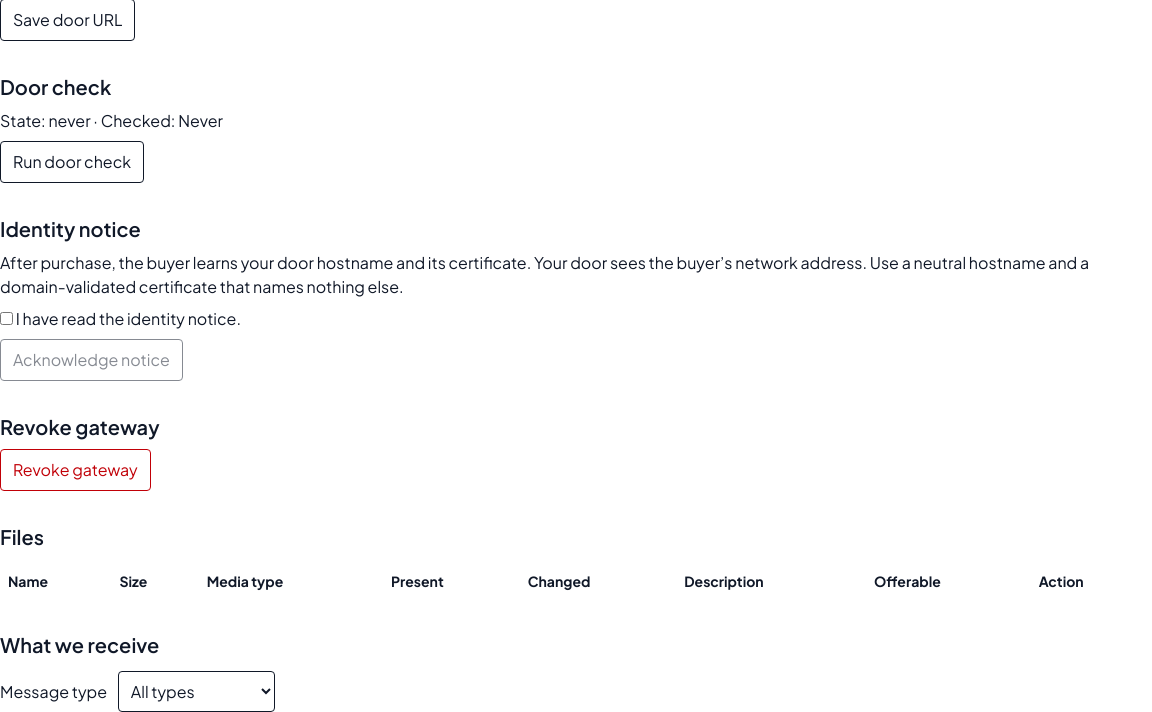
Scenario: keeps the newest filter rows and cursor when an older filter succeeds late
(page scrolled)
Select "hello" in the dropdown labelled "Message type" at (196, 692), box [118,671,275,711]
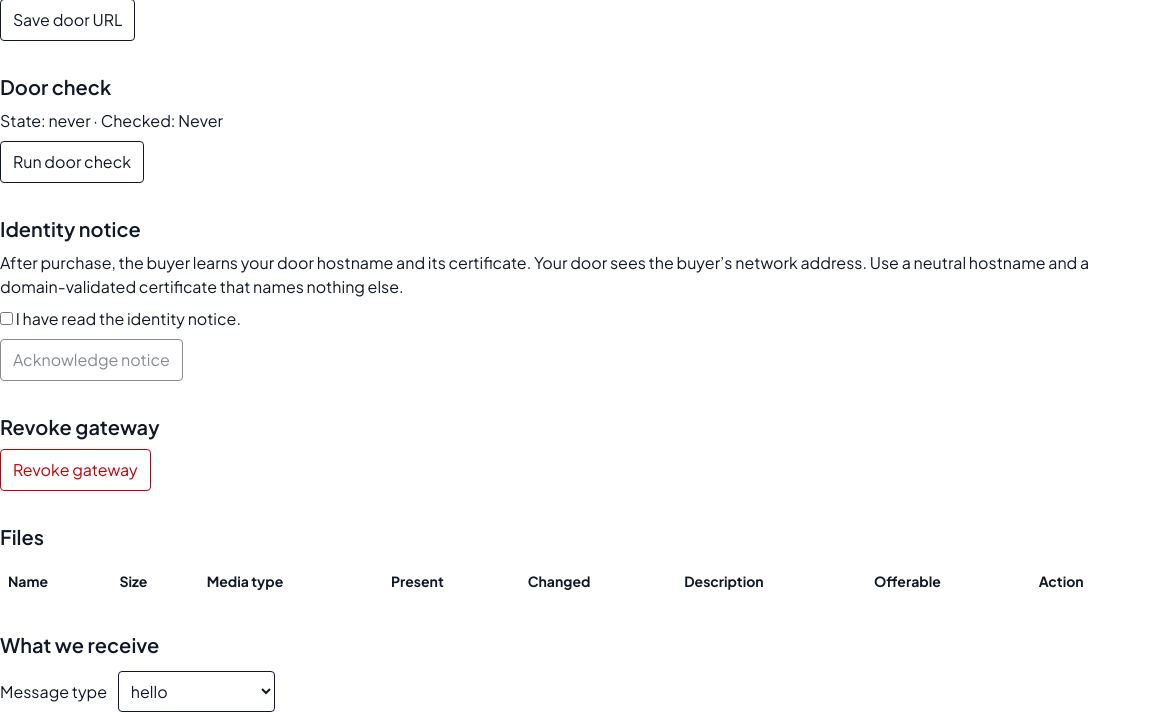
Select "inventory" in the dropdown labelled "Message type" at (196, 692), box [118,671,275,711]
(page scrolled)
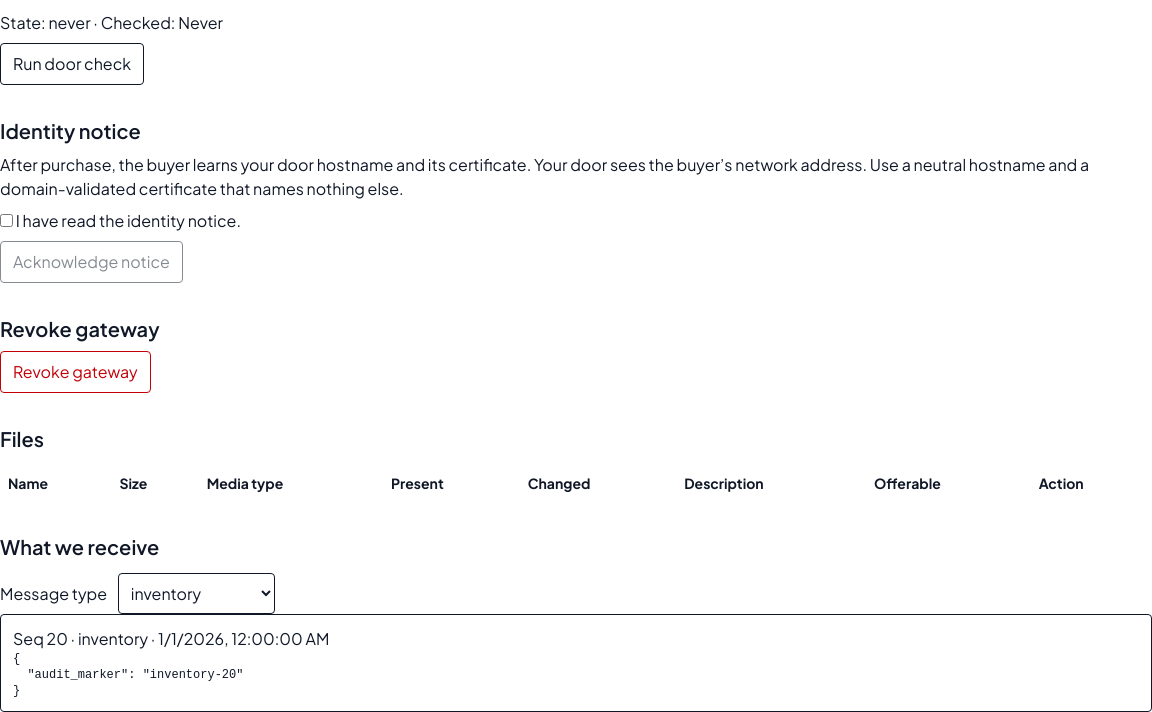
Expected: the text "{ \"audit_marker\": \"inventory-20\" }" is shown, [13,652,244,698]
